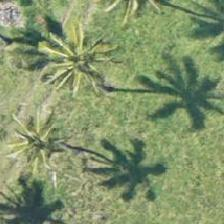coconut_tree: (34, 15, 124, 105), (0, 89, 81, 179)
